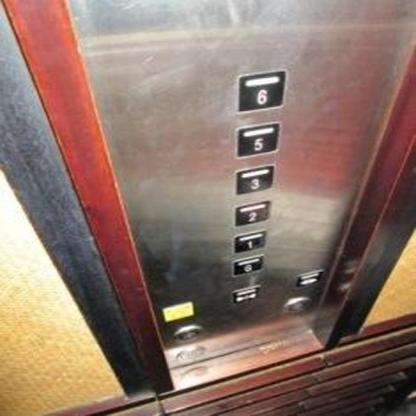1: (233, 229, 265, 254)
2: (234, 201, 270, 227)
3: (236, 164, 273, 195)
5: (235, 121, 279, 156)
6: (237, 70, 286, 114)
G: (232, 254, 263, 275)
blur: (161, 299, 195, 321), (170, 323, 204, 342), (283, 295, 312, 314), (296, 269, 323, 287)
close: (232, 284, 258, 305)
